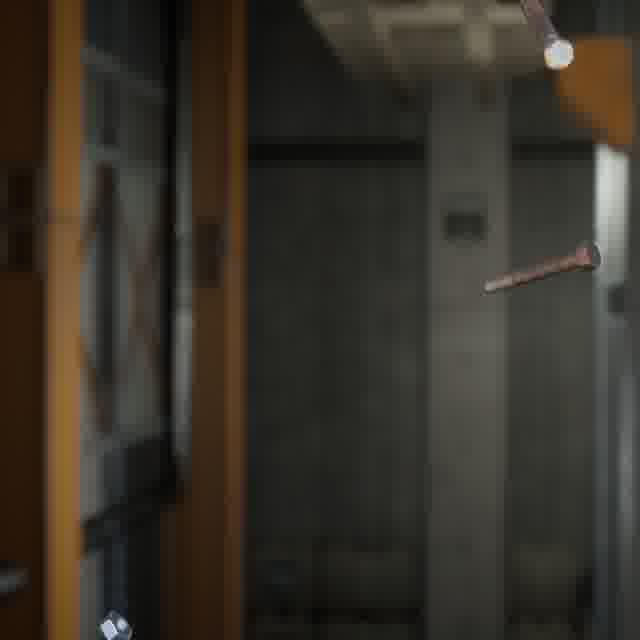bolt: (479, 236, 605, 297), (512, 0, 578, 75)
nut: (95, 606, 136, 640)
